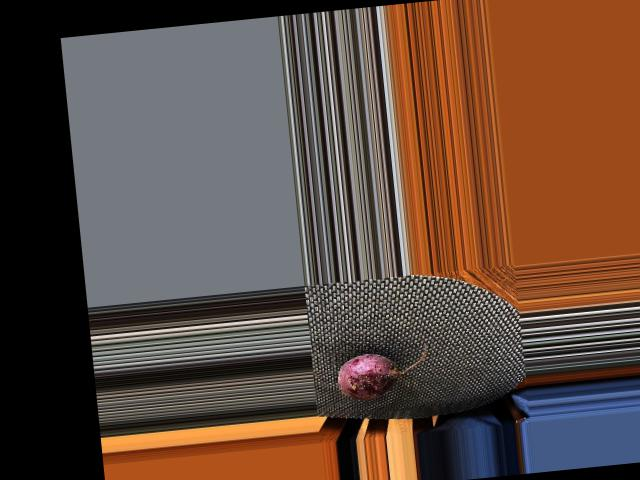beet: (335, 342, 431, 402)
